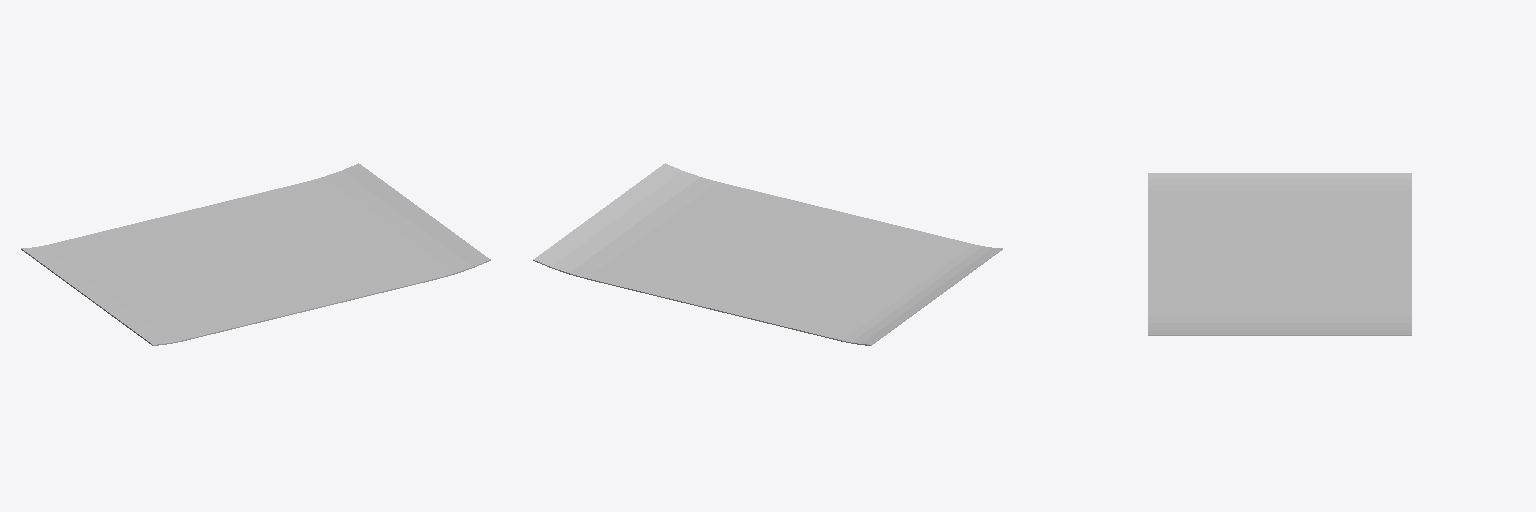
The model's file is Letter Quick v2.obj.
3 views of the same model, side by side, from view 1: azimuth 30°, elevation 25°; view 2: azimuth 150°, elevation 25°; view 3: azimuth 270°, elevation 25° (orthographic).
Parts seen in each view (by area): view 1: Body1; view 2: Body1; view 3: Body1.
Boxes of the visible parts, <box> form: Body1: <box>21,163,490,345</box>; Body1: <box>533,163,1002,345</box>; Body1: <box>1148,173,1411,335</box>.
Bounding box in the file's own units: 12.6 × 0.2386 × 8.5.